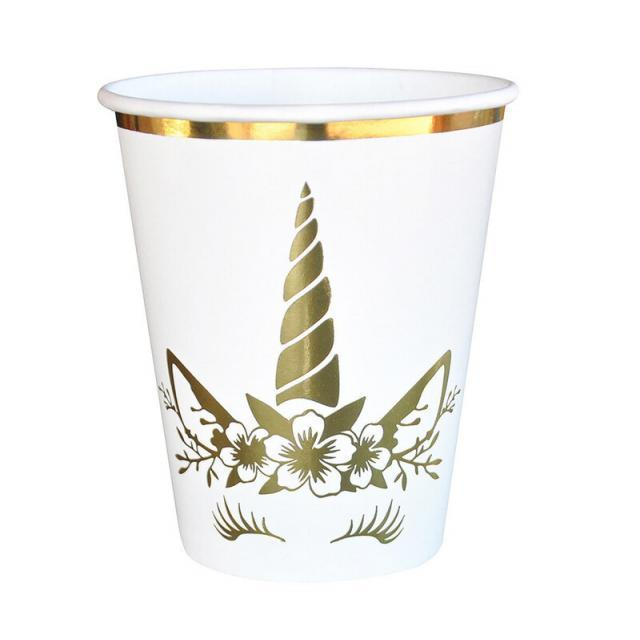trash: (86, 46, 560, 606)
